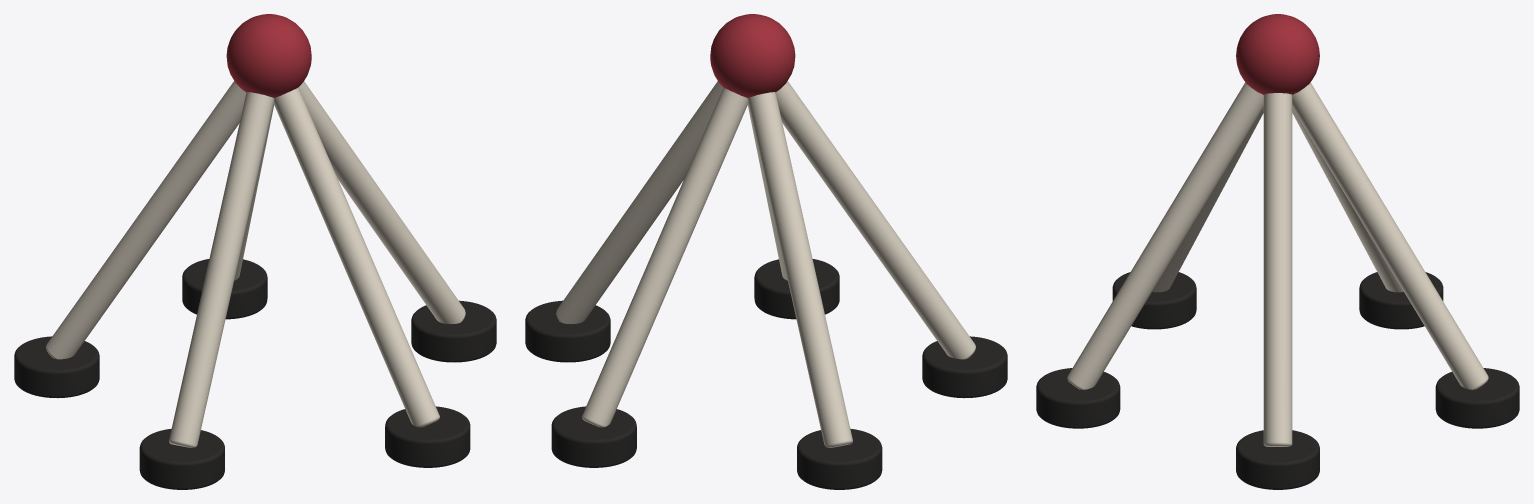
Rendered from VSV-003.glb.
The picture shows the model from 3 angles, left to right: view 1: azimuth 30°, elevation 25°; view 2: azimuth 150°, elevation 25°; view 3: azimuth 270°, elevation 25°; orthographic projection.
Visible parts, largest first — view 1: VSV-003_convergence__converging beam.004, VSV-003_convergence__converging beam.003, VSV-003_convergence__converging beam.002, VSV-003_convergence__converging beam, VSV-003_convergence__junction, VSV-003_convergence__foot.003, VSV-003_convergence__foot.004, VSV-003_convergence__foot.002, VSV-003_convergence__foot, VSV-003_convergence__foot.001, VSV-003_convergence__converging beam.001; view 2: VSV-003_convergence__converging beam.001, VSV-003_convergence__converging beam.002, VSV-003_convergence__converging beam.003, VSV-003_convergence__converging beam, VSV-003_convergence__junction, VSV-003_convergence__foot.002, VSV-003_convergence__foot.001, VSV-003_convergence__foot.003, VSV-003_convergence__foot, VSV-003_convergence__foot.004, VSV-003_convergence__converging beam.004; view 3: VSV-003_convergence__converging beam, VSV-003_convergence__converging beam.001, VSV-003_convergence__converging beam.004, VSV-003_convergence__junction, VSV-003_convergence__foot, VSV-003_convergence__foot.001, VSV-003_convergence__foot.004, VSV-003_convergence__foot.002, VSV-003_convergence__foot.003, VSV-003_convergence__converging beam.002, VSV-003_convergence__converging beam.003.
Part boxes in pixels (box(x1,y1,x2,y2)): VSV-003_convergence__converging beam.004: box(273, 88, 439, 427); VSV-003_convergence__converging beam.003: box(169, 92, 274, 447); VSV-003_convergence__converging beam.002: box(46, 81, 246, 359); VSV-003_convergence__converging beam: box(298, 81, 465, 324); VSV-003_convergence__junction: box(226, 14, 311, 98); VSV-003_convergence__foot.003: box(139, 428, 224, 489); VSV-003_convergence__foot.004: box(385, 406, 470, 467); VSV-003_convergence__foot.002: box(14, 336, 99, 398); VSV-003_convergence__foot: box(411, 300, 496, 362); VSV-003_convergence__foot.001: box(182, 259, 267, 319); VSV-003_convergence__converging beam.001: box(234, 104, 273, 280); VSV-003_convergence__converging beam.001: box(582, 88, 748, 427); VSV-003_convergence__converging beam.002: box(747, 92, 852, 447); VSV-003_convergence__converging beam.003: box(775, 81, 975, 359); VSV-003_convergence__converging beam: box(556, 81, 723, 324); VSV-003_convergence__junction: box(710, 14, 795, 98); VSV-003_convergence__foot.002: box(797, 428, 882, 489); VSV-003_convergence__foot.001: box(551, 406, 636, 467); VSV-003_convergence__foot.003: box(922, 336, 1007, 398); VSV-003_convergence__foot: box(525, 300, 610, 362); VSV-003_convergence__foot.004: box(754, 259, 839, 319); VSV-003_convergence__converging beam.004: box(748, 104, 787, 280); VSV-003_convergence__converging beam: box(1263, 93, 1292, 446); VSV-003_convergence__converging beam.001: box(1292, 82, 1488, 389); VSV-003_convergence__converging beam.004: box(1067, 82, 1263, 389); VSV-003_convergence__junction: box(1236, 14, 1319, 94); VSV-003_convergence__foot: box(1236, 430, 1319, 489); VSV-003_convergence__foot.001: box(1435, 368, 1519, 428); VSV-003_convergence__foot.004: box(1036, 368, 1120, 428); VSV-003_convergence__foot.002: box(1359, 272, 1443, 329); VSV-003_convergence__foot.003: box(1112, 272, 1196, 329); VSV-003_convergence__converging beam.002: box(1292, 108, 1403, 292); VSV-003_convergence__converging beam.003: box(1152, 108, 1263, 292).
Bounding box in the file's own units: 2.43 × 2.12 × 2.53.
